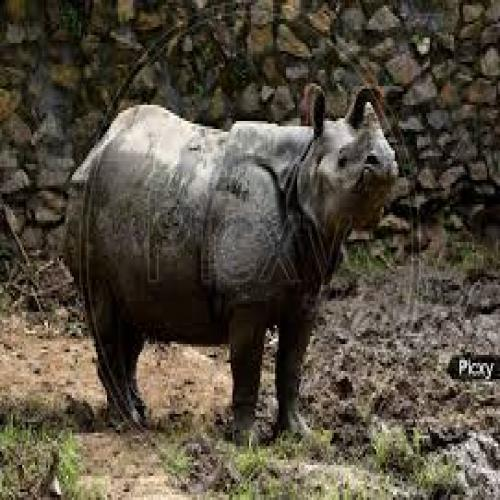rhino-endangered: (68, 85, 401, 446)
